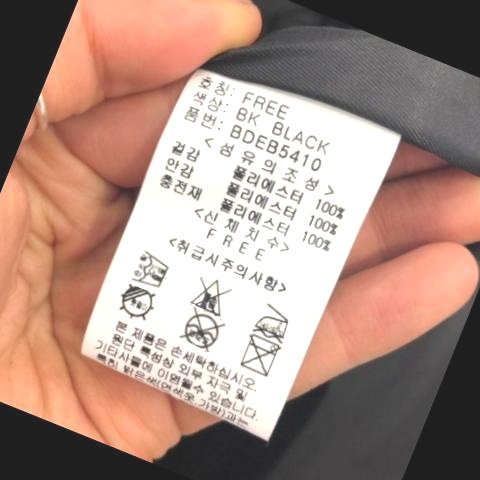DN_dry_clean: (179, 311, 232, 348)
DN_wash: (239, 337, 287, 378)
dry_flat: (127, 244, 181, 285)
iron_medium: (249, 297, 301, 339)
line_dry_in_shade: (119, 288, 163, 321)
non_chlorine_bleach: (185, 276, 232, 314)
